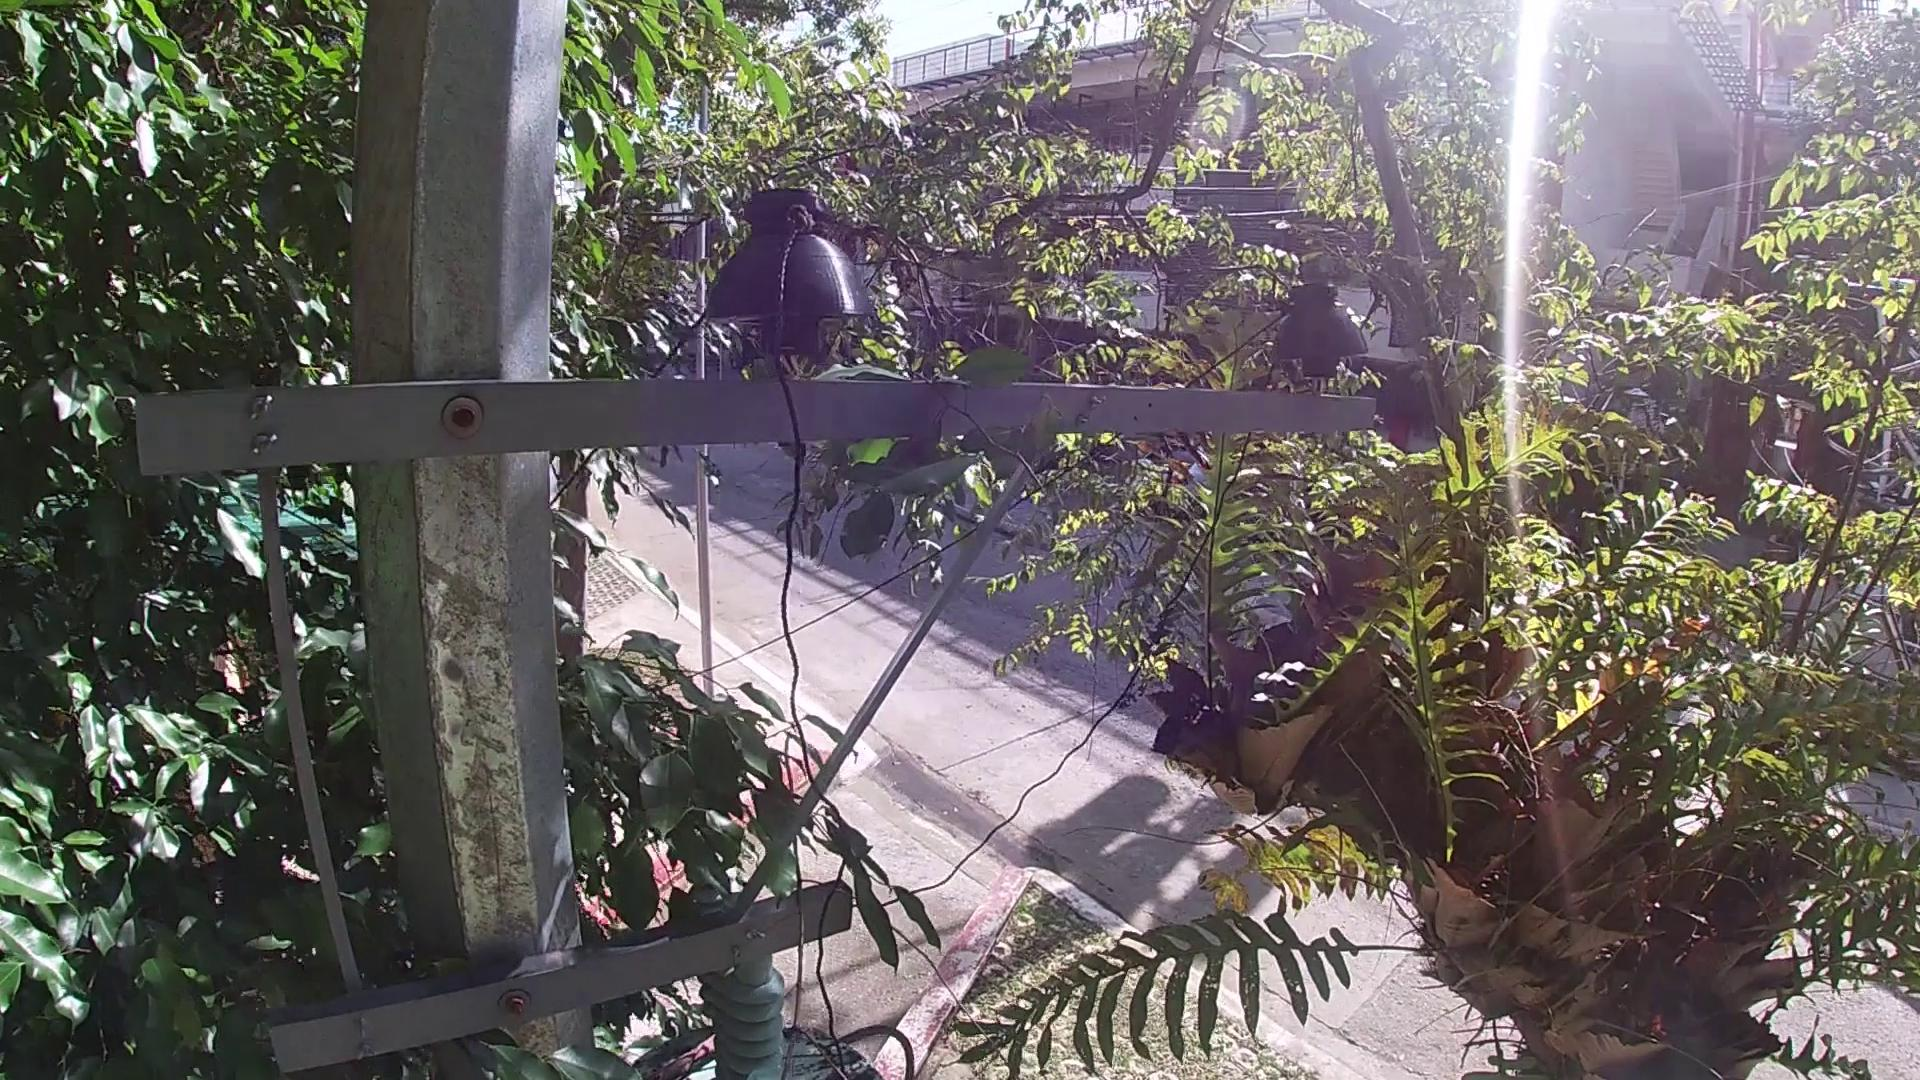tree branch: (711, 694, 1017, 1080), (634, 1029, 723, 1075)
